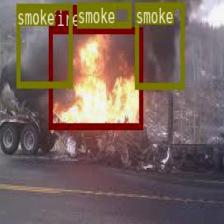fire: (48, 26, 142, 129)
smoke: (16, 3, 72, 86), (134, 1, 184, 88), (76, 1, 130, 26)
